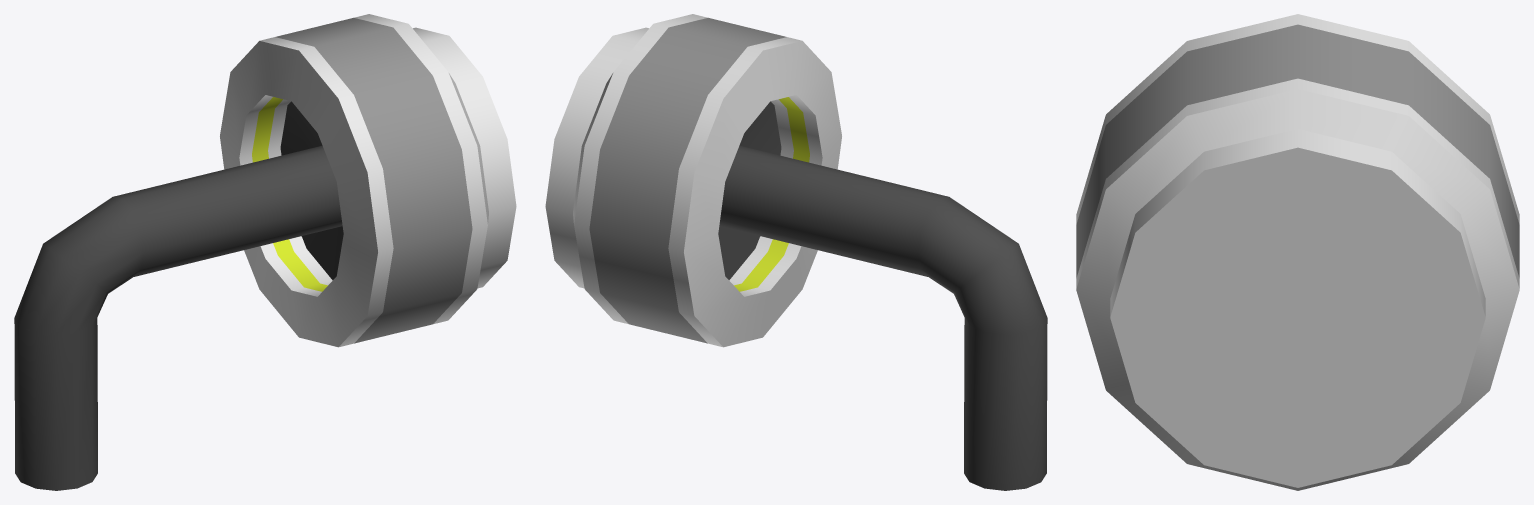
Rendered from NeonAds00_NeonConnection01.fbx.
3 views of the same model, side by side, from view 1: azimuth 30°, elevation 25°; view 2: azimuth 150°, elevation 25°; view 3: azimuth 270°, elevation 25° (orthographic). The views are drawn at different scales.
Parts seen in each view (by area): view 1: Neon_Connection01_LOD0; view 2: Neon_Connection01_LOD0; view 3: Neon_Connection01_LOD0.
Boxes of the visible parts, bbox=[...] form: Neon_Connection01_LOD0: bbox=[14, 14, 516, 490]; Neon_Connection01_LOD0: bbox=[545, 14, 1047, 490]; Neon_Connection01_LOD0: bbox=[1076, 14, 1519, 490].
Size of what is drawn, in the model's own units: 21.85 by 17.69 by 13.96.
